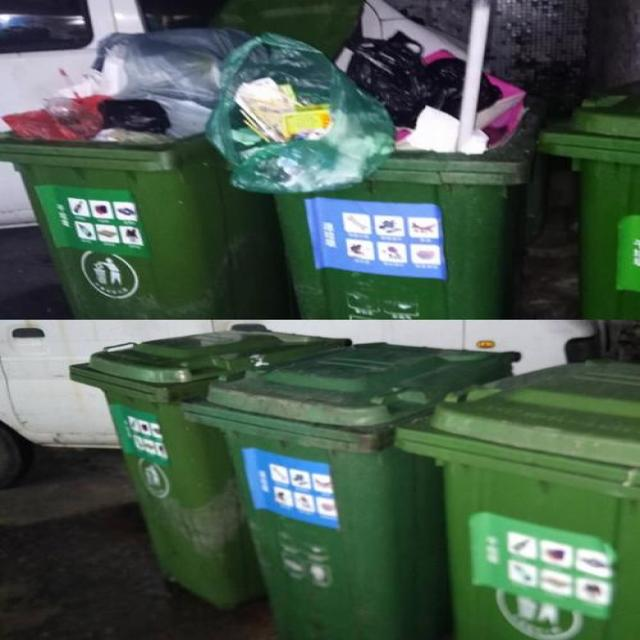garbage_bin: (182, 337, 520, 639), (68, 321, 351, 605), (396, 358, 638, 639)
overflow: (205, 0, 525, 316), (0, 28, 270, 315)
